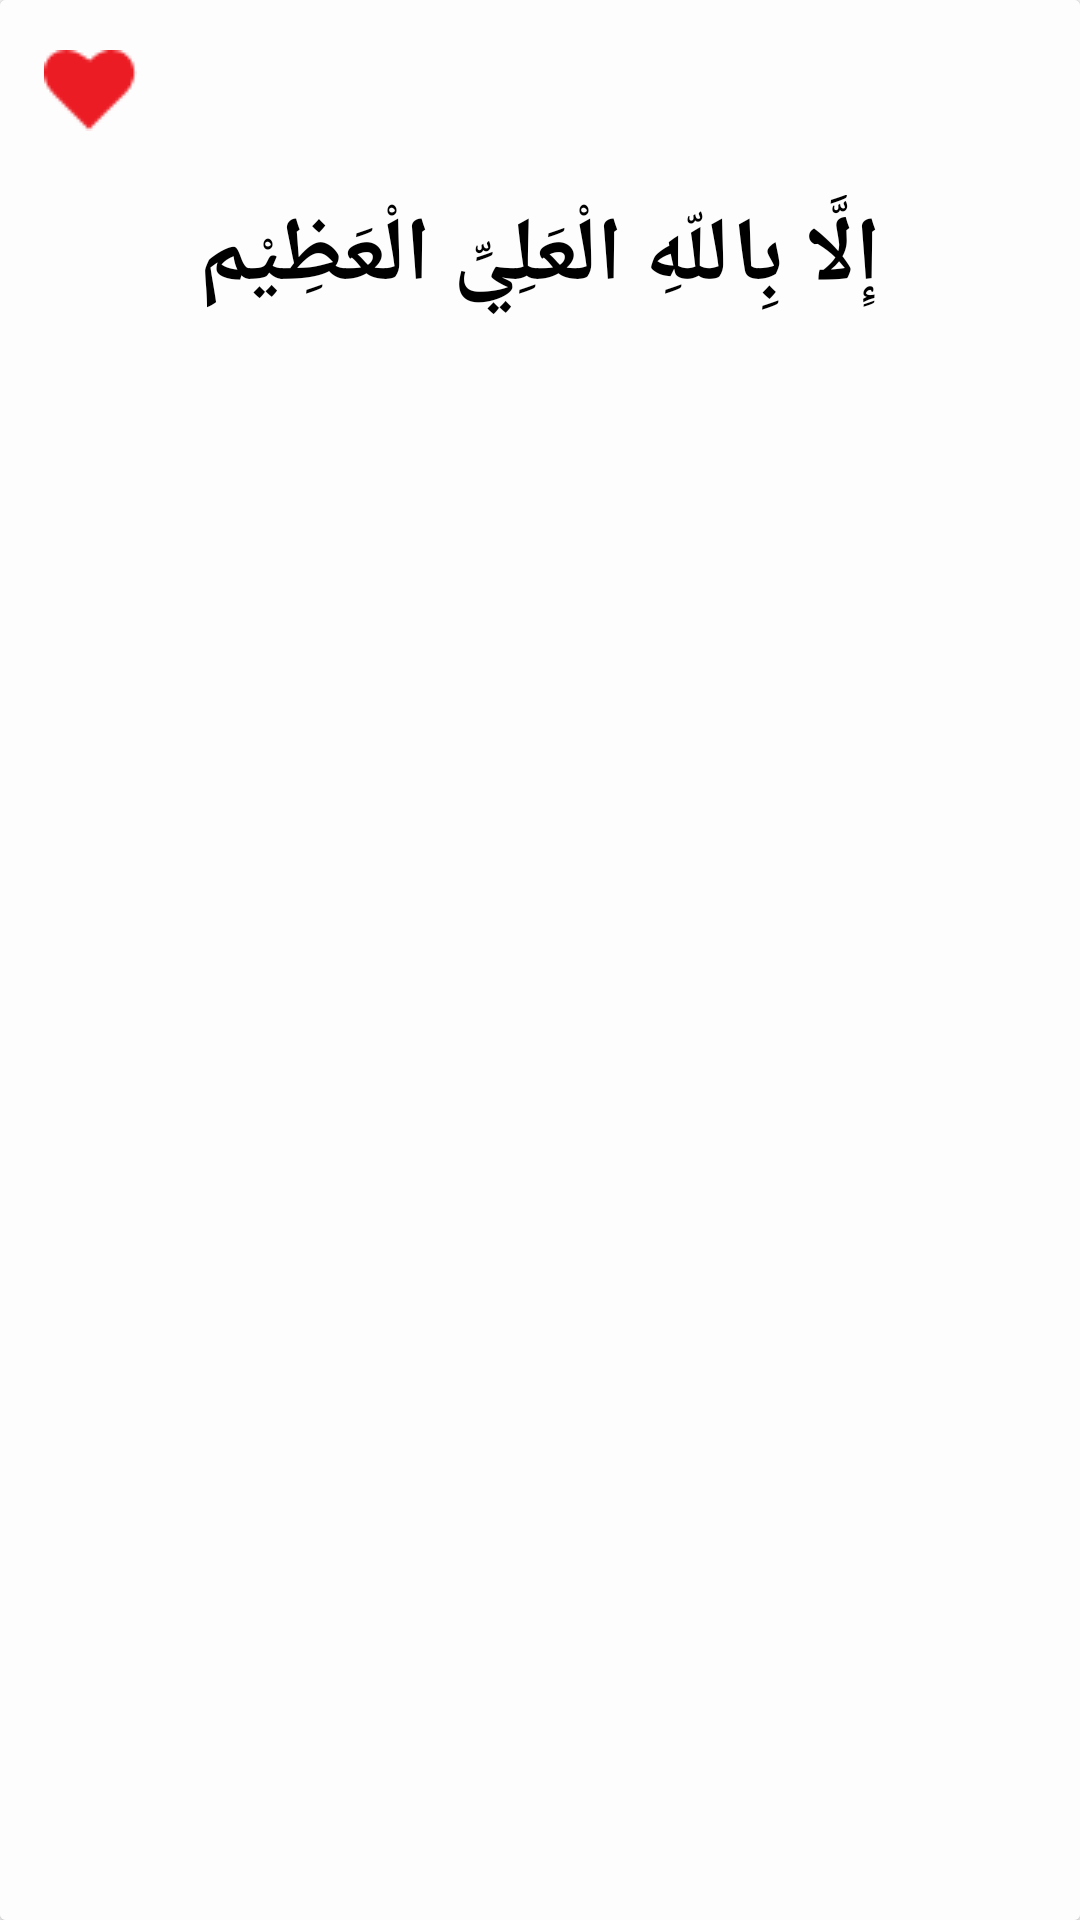

Point at icon controls on the screen. Image size 1080x1920, points as point (x, y).
heart: point (89, 90)
